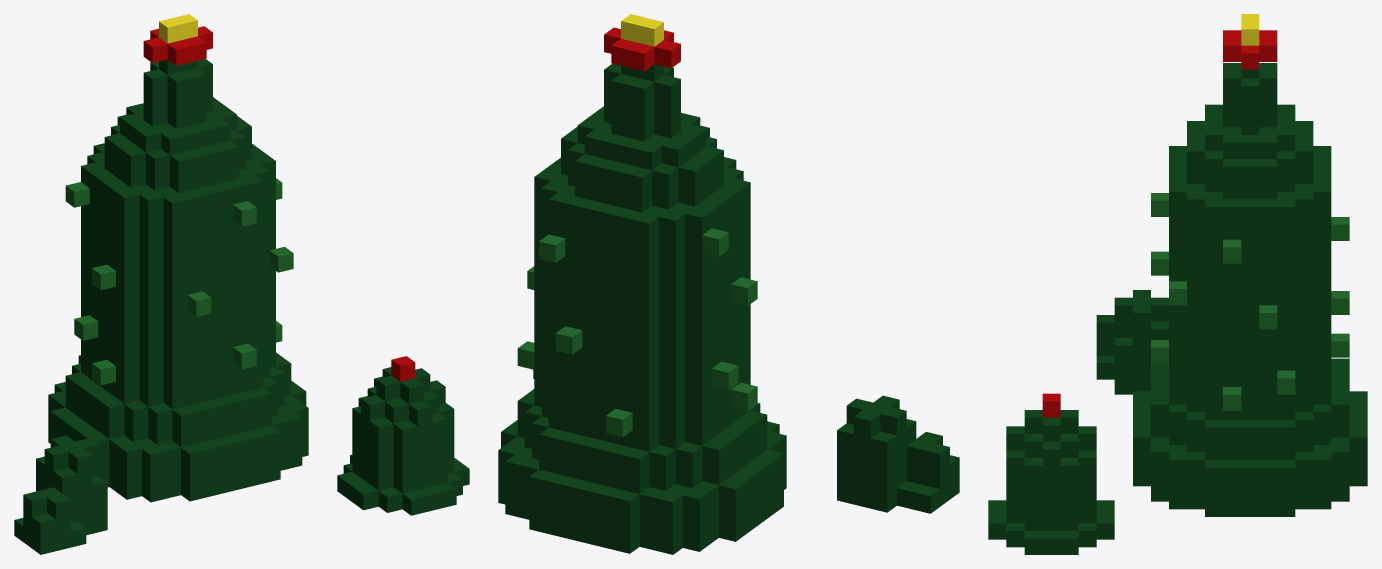
Rendered from Background_B_tree_01.FBX.
The picture shows the model from 3 angles, left to right: view 1: azimuth 30°, elevation 25°; view 2: azimuth 150°, elevation 25°; view 3: azimuth 270°, elevation 25°; orthographic projection. The views are drawn at different scales.
Parts seen in each view (by area): view 1: untitled-8; view 2: untitled-8; view 3: untitled-8.
Boxes of the visible parts, <box> form: untitled-8: <box>14,14,469,554</box>; untitled-8: <box>498,14,959,554</box>; untitled-8: <box>988,14,1367,554</box>.
Bounding box in the file's own units: 2.6 × 2.7 × 2.1.
Materials: 1 (1 with a texture image).
